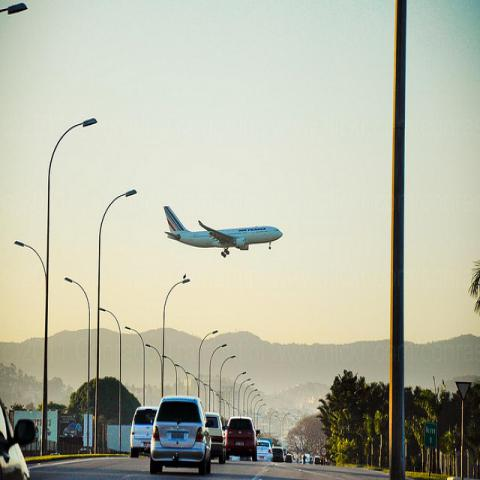car: (150, 396, 212, 474), (0, 396, 38, 479), (129, 407, 159, 458), (224, 419, 256, 463), (202, 411, 227, 465), (256, 440, 274, 462), (272, 448, 284, 462), (313, 456, 321, 466), (285, 453, 293, 463)
